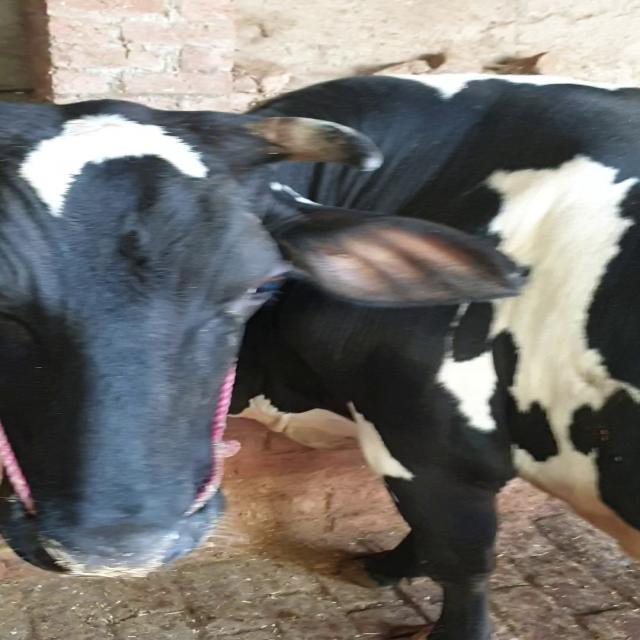cowFace: (0, 104, 293, 580)
